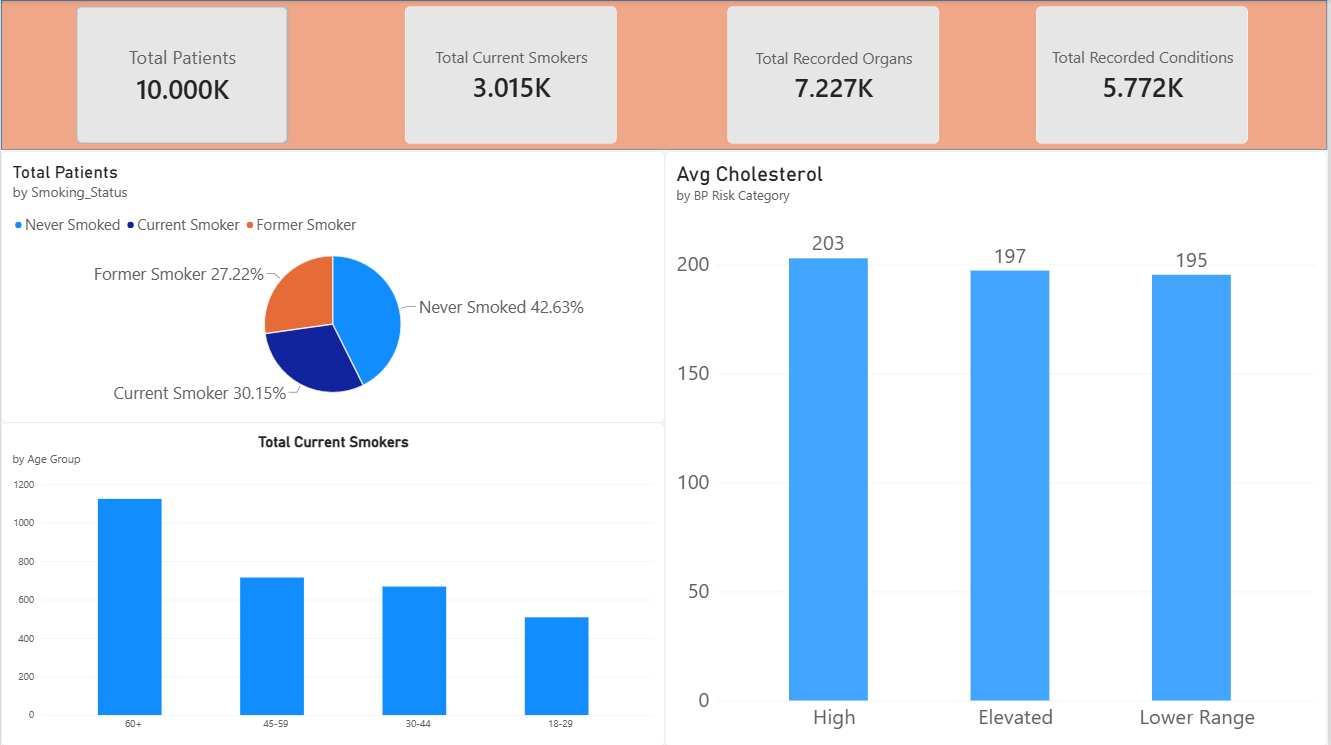

What the dashboard file says about the page in this screenshot:
{"tool":"powerbi","page":{"name":"Executive Overview","canvas":[1920,1080],"ordinal":0},"visuals":[{"type":"shape","box":[0,0,1920.1,217.2],"z":0},{"type":"cardVisual","fields":{"Data":["Smoking_Health_Analysis.Total Measures"]},"box":[108.6,9,307.6,199.1],"z":2},{"type":"cardVisual","fields":{"Data":["Smoking_Health_Analysis.Total Current Smokers"]},"box":[584.5,9,307.6,199.1],"z":3},{"type":"cardVisual","fields":{"Data":["Smoking_Health_Analysis.Total Recorded Conditions"]},"box":[1498.4,9,307.6,199.1],"z":5},{"type":"pieChart","fields":{"Category":["Smoking_Health_Analysis.Smoking_Status"],"Y":["Smoking_Health_Analysis.Total Patients"]},"box":[0,219,960.9,392.7],"z":6},{"type":"clusteredColumnChart","fields":{"Category":["Smoking_Health_Analysis.BP Risk Category"],"Y":["Smoking_Health_Analysis.Avg Cholesterol"]},"box":[960.9,219,959.1,861.4],"z":9},{"type":"cardVisual","fields":{"Data":["Smoking_Health_Analysis.Total_Rcorded_Organ"]},"box":[1051.4,9,307.6,199.1],"z":10},{"type":"clusteredColumnChart","fields":{"Category":["Smoking_Health_Analysis.Age Group"],"Y":["Smoking_Health_Analysis.Total Current Smokers"]},"box":[0,611.7,960.9,468.7],"z":11}]}

Visuals, with their boxes in screenshot pixels (x1, y1, x2, y2), scaled from the page's 1920x1080 canvas onto the 1331x745 screenshot:
shape: Rect(0, 0, 1330, 150)
cardVisual - Smoking_Health_Analysis.Total Measures: Rect(75, 6, 289, 144)
cardVisual - Smoking_Health_Analysis.Total Current Smokers: Rect(405, 6, 618, 144)
cardVisual - Smoking_Health_Analysis.Total Recorded Conditions: Rect(1039, 6, 1252, 144)
pieChart - Smoking_Health_Analysis.Smoking_Status x Smoking_Health_Analysis.Total Patients: Rect(0, 151, 666, 422)
clusteredColumnChart - Smoking_Health_Analysis.BP Risk Category x Smoking_Health_Analysis.Avg Cholesterol: Rect(666, 151, 1330, 744)
cardVisual - Smoking_Health_Analysis.Total_Rcorded_Organ: Rect(729, 6, 942, 144)
clusteredColumnChart - Smoking_Health_Analysis.Age Group x Smoking_Health_Analysis.Total Current Smokers: Rect(0, 422, 666, 744)
